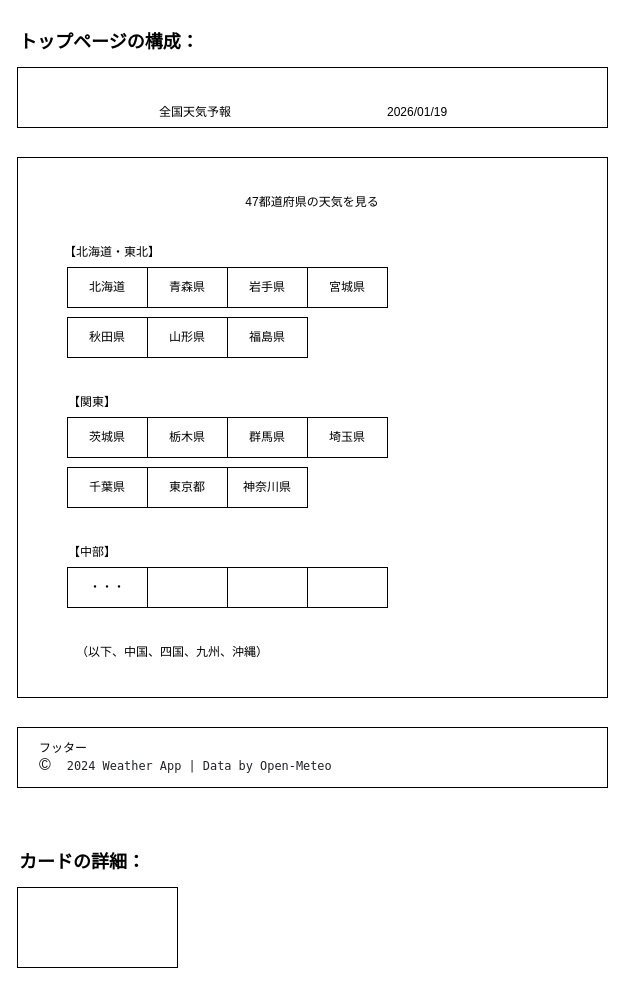
The diagram is 625 pixels wide and 985 high, and some of its shapes have lost their labels. The shapes that lost their labels are listed below. From the top down, each one's box as (x1, y1, x2, y2) in pixels, then its label:
(16, 66, 608, 128): ヘッダー
(16, 886, 178, 968): 東京都 🌤️ → 詳細を見る
